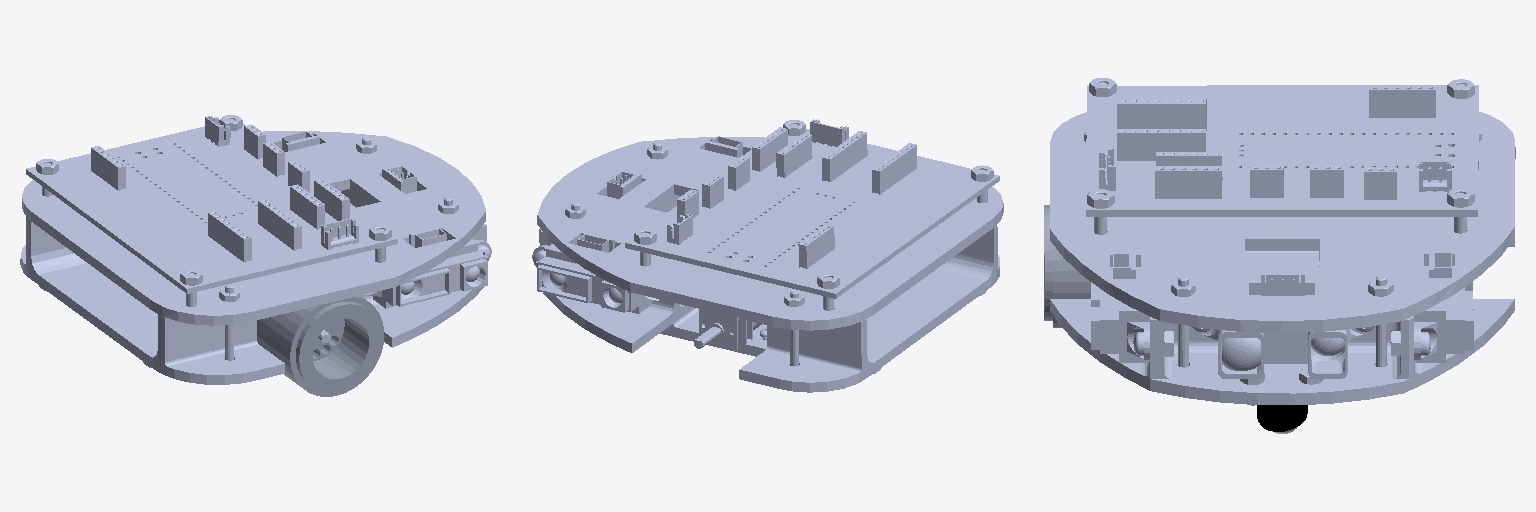
URDF robot description (MazeRobot_description):
<?xml version="1.0" encoding="utf-8"?>
<!-- This URDF was automatically created by SolidWorks to URDF Exporter! Originally created by [author] ([email redacted]) 
     Commit Version: 1.6.0-4-g7f85cfe  Build Version: 1.6.7995.38578
     For more information, please see http://wiki.ros.org/sw_urdf_exporter -->
<robot
  name="MazeRobot_description">
  <link
    name="base_link">
    <inertial>
      <origin
        xyz="0.00490709777806277 -0.00018980149074092 0.0158541076050415"
        rpy="0 0 0" />
      <mass
        value="0.113840294442823" />
      <inertia
        ixx="0.00020713"
        ixy="0.000"
        ixz="0.000"
        iyy="0.000491"
        iyz="0.00000"
        izz="0.00014401" />
    </inertial>
    <visual>
      <origin
        xyz="0 0 0"
        rpy="0 0 0" />
      <geometry>
        <mesh
          filename="package://modelo_robot/meshes/base_link.STL" />
      </geometry>
      <material
        name="">
        <color
          rgba="0.792156862745098 0.819607843137255 0.933333333333333 1" />
      </material>
    </visual>
    <collision>
      <origin
        xyz="0 0 0"
        rpy="0 0 0" />
      <geometry>
        <mesh
          filename="package://modelo_robot/meshes/base_link.STL" />
      </geometry>
    </collision>
  </link>
  <link
    name="L_wheel_link">
    <inertial>
      <origin
        xyz="-2.99096858125819E-05 0.000104405542786706 0.0106748994421485"
        rpy="0 0 0" />
      <mass
        value="0.0193884068569417" />
      <inertia
        ixx="2.0510194557915E-04"
        ixy="-1.38176554484537E-04"
        ixz="-1.25876332418469E-04"
        iyy="2.06467928427853E-04"
        iyz="5.48385935622177E-04"
        izz="2.44092899915579E-04" />
    </inertial>
    <visual>
      <origin
        xyz="0 0 0"
        rpy="0 0 0" />
      <geometry>
        <mesh
          filename="package://modelo_robot/meshes/L_wheel_link.STL" />
      </geometry>
      <material
        name="">
        <color
          rgba="0.666666666666667 0.698039215686274 0.768627450980392 1" />
      </material>
    </visual>
    <collision>
      <origin
        xyz="0 0 0"
        rpy="0 0 0" />
      <geometry>
        <mesh
          filename="package://modelo_robot/meshes/L_wheel_link.STL" />
      </geometry>
    </collision>
  </link>
  <joint
    name="L_Wheel_joint"
    type="continuous">
    <origin
      xyz="-0.0043278 0.031199 0.0080157"
      rpy="-1.5708 0.0038917 -0.0016425" />
    <parent
      link="base_link" />
    <child
      link="L_wheel_link" />
    <axis
      xyz="0 0 1" />
  </joint>
  <link
    name="R_wheel_link">
    <inertial>
      <origin
        xyz="5.80889775016746E-05 -8.73721543165756E-05 -0.010674936298826"
        rpy="0 0 0" />
      <mass
        value="0.0193884068569417" />
      <inertia
        ixx="2.0551514945078E-04"
        ixy="-6.42512948553551E-04"
        ixz="-3.05250616726642E-4"
        iyy="2.06054394462654E-04"
        iyz="4.59129190656125E-04"
        izz="2.44093230009149E-04" />
    </inertial>
    <visual>
      <origin
        xyz="0 0 0"
        rpy="0 0 0" />
      <geometry>
        <mesh
          filename="package://modelo_robot/meshes/R_wheel_link.STL" />
      </geometry>
      <material
        name="">
        <color
          rgba="0.666666666666667 0.698039215686274 0.768627450980392 1" />
      </material>
    </visual>
    <collision>
      <origin
        xyz="0 0 0"
        rpy="0 0 0" />
      <geometry>
        <mesh
          filename="package://modelo_robot/meshes/R_wheel_link.STL" />
      </geometry>
    </collision>
  </link>
  <joint
    name="R_wheel_joint"
    type="continuous">
    <origin
      xyz="-0.0043053 -0.0312 0.008035"
      rpy="-1.5708 0 0.00018716" />
    <parent
      link="base_link" />
    <child
      link="R_wheel_link" />
    <axis
      xyz="0 0 1" />
  </joint>
  <link
    name="base_ball_link">
    <inertial>
      <origin
        xyz="-0.000156741560749171 3.66156148715047E-06 0.00175642003782412"
        rpy="0 0 0" />
      <mass
        value="0.000334626588702842" />
      <inertia
        ixx="6.32096281729359E-04"
        ixy="1.38188367097301E-4"
        ixz="1.72903645492289E-4"
        iyy="6.91894812583214E-4"
        iyz="-3.84168963283986E-4"
        izz="1.0328131558991E-04" />
    </inertial>
    <visual>
      <origin
        xyz="0 0 0"
        rpy="0 0 0" />
      <geometry>
        <mesh
          filename="package://modelo_robot/meshes/base_ball_link.STL" />
      </geometry>
      <material
        name="">
        <color
          rgba="0 0 0 1" />
      </material>
    </visual>
    <collision>
      <origin
        xyz="0 0 0"
        rpy="0 0 0" />
      <geometry>
        <mesh
          filename="package://modelo_robot/meshes/base_ball_link.STL" />
      </geometry>
    </collision>
  </link>
  <joint
    name="base_ball_joint"
    type="fixed">
    <origin
      xyz="0.0564228989028418 -3.72202777769552E-05 0.00311838120082205"
      rpy="-3.13827653428421 0 1.57098348766261" />
    <parent
      link="base_link" />
    <child
      link="base_ball_link" />
    <axis
      xyz="0 0 0" />
  </joint>
  <link
    name="foward_ball_link">
    <inertial>
      <origin
        xyz="0 -6.93889390390723E-18 3.46944695195361E-18"
        rpy="0 0 0" />
      <mass
        value="0.000421160340343921" />
      <inertia
        ixx="3.64261578363457E-04"
        ixy="-1.2278462217584E-4"
        ixz="1.29246970711411E-4"
        iyy="3.64261578363457E-04"
        iyz="-2.62532909257553E-4"
        izz="3.64261578363457E-04" />
    </inertial>
    <visual>
      <origin
        xyz="0 0 0"
        rpy="0 0 0" />
      <geometry>
        <mesh
          filename="package://modelo_robot/meshes/foward_ball_link.STL" />
      </geometry>
      <material
        name="">
        <color
          rgba="1 1 1 1" />
      </material>
    </visual>
    <collision>
      <origin
        xyz="0 0 0"
        rpy="0 0 0" />
      <geometry>
        <mesh
          filename="package://modelo_robot/meshes/foward_ball_link.STL" />
      </geometry>
    </collision>
  </link>
  <joint
    name="foward_ball_joint"
    type="fixed">
    <origin
      xyz="0 0 0.0048155"
      rpy="1.5467 0.018736 1.5131" />
    <parent
      link="base_ball_link" />
    <child
      link="foward_ball_link" />
    <axis
      xyz="0 0 0" />
  </joint>
  <link
    name="lateral_ball_link">
    <inertial>
      <origin
        xyz="0 0 0"
        rpy="0 0 0" />
      <mass
        value="0.000421160340343921" />
      <inertia
        ixx="3.64261578363457E-04"
        ixy="6.46234853557053E-4"
        ixz="1.29246970711411E-4"
        iyy="3.64261578363457E-4"
        iyz="6.46234853557053E-4"
        izz="3.64261578363457E-04" />
    </inertial>
    <visual>
      <origin
        xyz="0 0 0"
        rpy="0 0 0" />
      <geometry>
        <mesh
          filename="package://modelo_robot/meshes/lateral_ball_link.STL" />
      </geometry>
      <material
        name="">
        <color
          rgba="1 1 1 1" />
      </material>
    </visual>
    <collision>
      <origin
        xyz="0 0 0"
        rpy="0 0 0" />
      <geometry>
        <mesh
          filename="package://modelo_robot/meshes/lateral_ball_link.STL" />
      </geometry>
    </collision>
  </link>
  <joint
    name="lateral_ball_joint"
    type="fixed">
    <origin
      xyz="0 0 0.00481546875"
      rpy="-3.14159265358979 -0.0644086959094416 1.54850253991482" />
    <parent
      link="base_ball_link" />
    <child
      link="lateral_ball_link" />
    <axis
      xyz="0.99745539057873 -0.0224789316084745 0.0676567915229082" />
  </joint>
</robot>

--- Facts derived from the render (not from the file) ---
3 views of the same robot in one strip: view 1: azimuth 30°, elevation 25°; view 2: azimuth 150°, elevation 25°; view 3: azimuth 270°, elevation 25° (orthographic).
Model MazeRobot_description with 6 links and 5 joints (2 continuous, 3 fixed), rooted at base_link, posed all joints at 0.
Visible links, largest first — view 1: base_link, R_wheel_link; view 2: base_link; view 3: base_link, R_wheel_link, base_ball_link.
Boxes of the visible links, left/top/right/bottom form: base_link: left=20, top=115, right=491, bottom=384; R_wheel_link: left=257, top=296, right=384, bottom=396; base_link: left=532, top=119, right=1003, bottom=392; base_link: left=1050, top=78, right=1515, bottom=405; R_wheel_link: left=1044, top=205, right=1090, bottom=327; base_ball_link: left=1257, top=405, right=1307, bottom=431.
Bounding box of the posed robot: 0.116 × 0.1074 × 0.0466 m (x, y, z).
Meshes: 6 distinct files referenced, 4 mesh visuals loaded (4 binary STL); not drawn: 2 (reference not matched to a file when rendering).